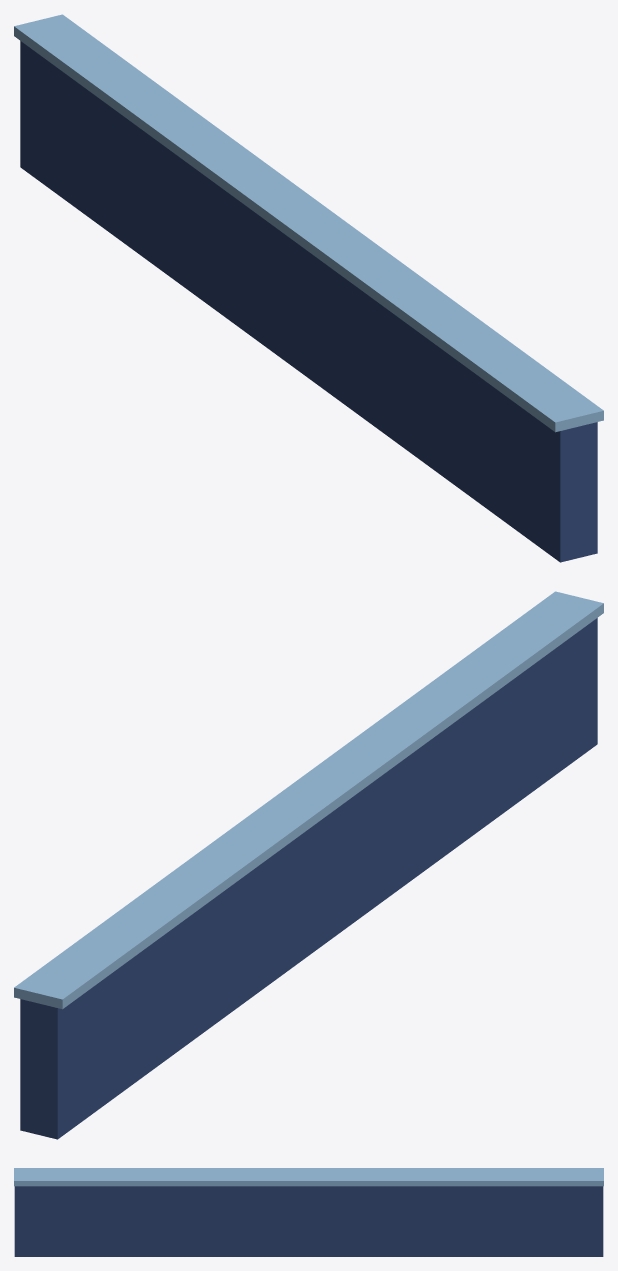
The model's file is Fance.fbx.
The picture shows the model from 3 angles, top to bottom: view 1: azimuth 30°, elevation 25°; view 2: azimuth 150°, elevation 25°; view 3: azimuth 270°, elevation 25°; orthographic projection. The views are drawn at different scales.
Visible parts, largest first — view 1: Fance; view 2: Fance; view 3: Fance.
Boxes of the visible parts, box(x1,y1,x2,y2) form: Fance: box(14, 14, 603, 562); Fance: box(14, 591, 603, 1139); Fance: box(14, 1168, 603, 1256).
Bounding box in the file's own units: 26 × 72.5 × 501.
